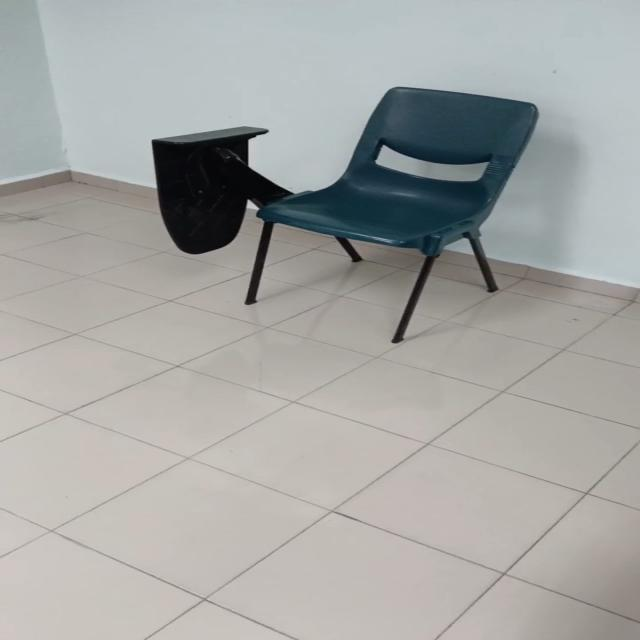sandalye: (257, 87, 538, 344)
